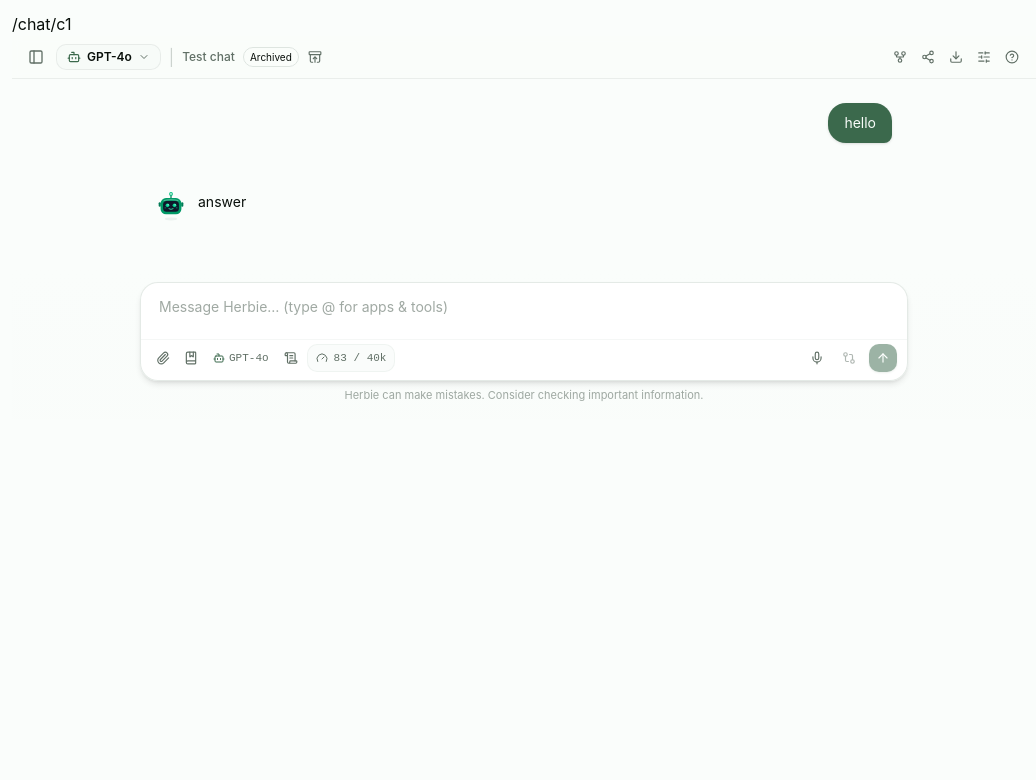
ChatPage conversation actions › shows an archived badge and clears it after sending
The width and height of the screenshot is (1036, 780).
Expected: the text "Archived" is shown, [243,47,299,67]
Type "continue" into the text box with placeholder "Message Herbie… (type @ for apps & tools)" at (524, 311), box [151,293,897,329]
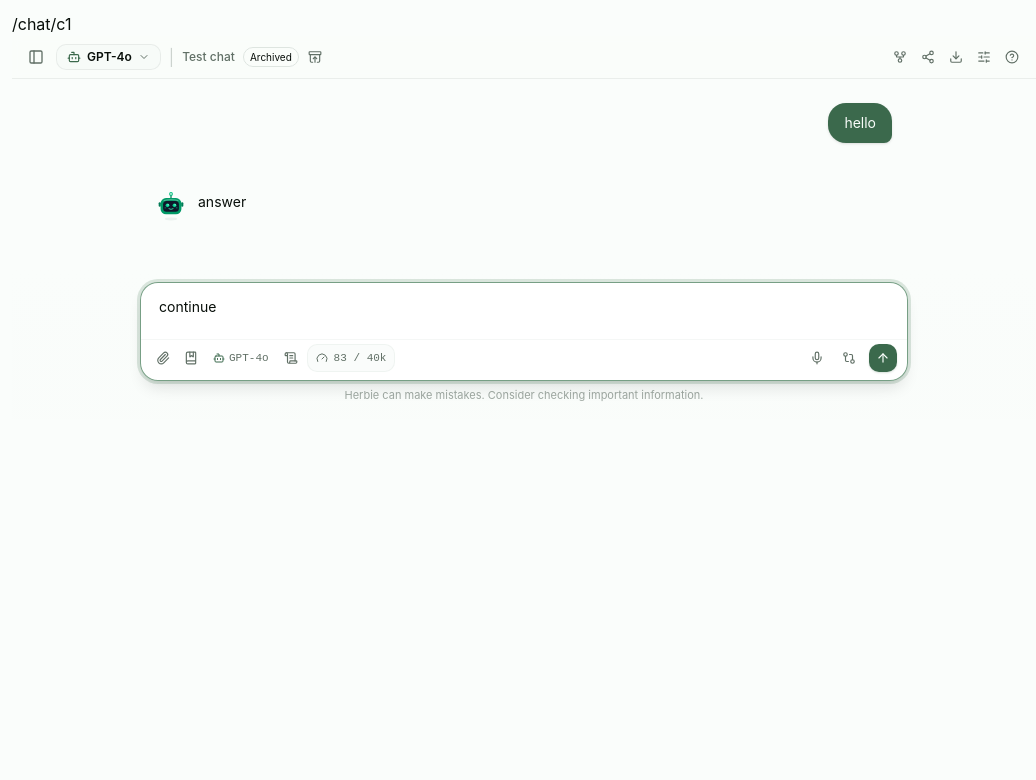
Click the button named "Send message" at (883, 358), box [869,344,897,372]
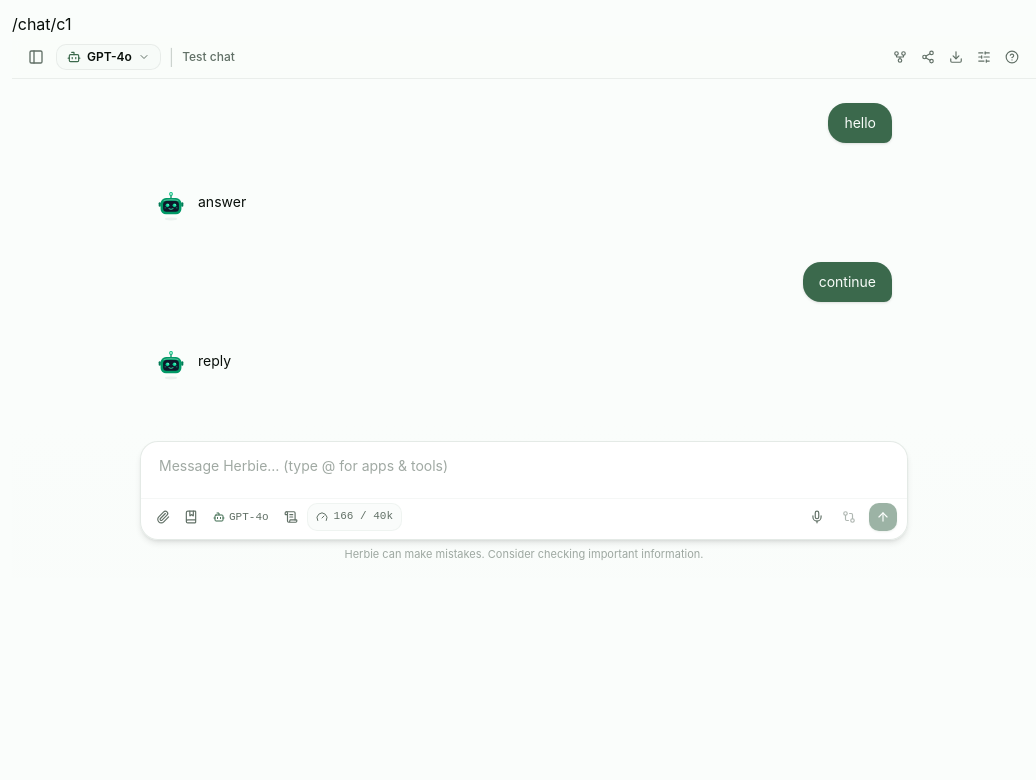
Expected: the text "Archived" is gone
